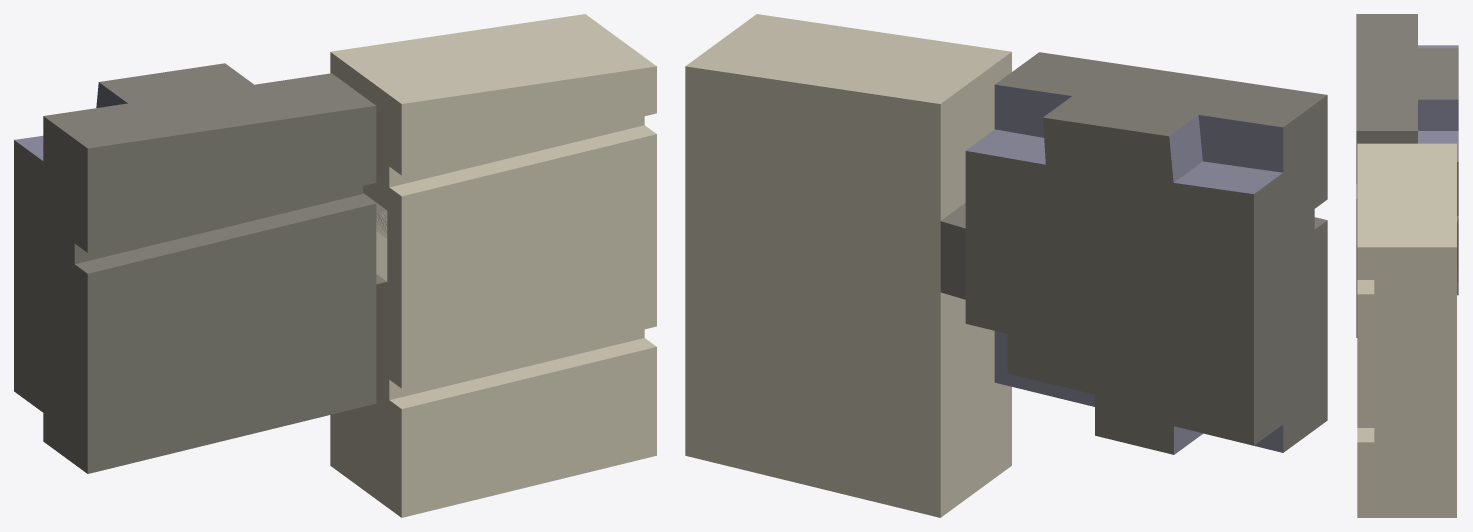
The model's file is CR1_DoorAngle3_simplified.obj.
3 renders of one model, left to right at view 1: azimuth 30°, elevation 25°; view 2: azimuth 150°, elevation 25°; view 3: azimuth 270°, elevation 25°, orthographic. The views are drawn at different scales.
Visible parts, largest first — view 1: obj16, obj9, obj1, obj11, obj12, obj19, obj5, obj17, obj43, obj13, obj48, obj4 (+4 smaller); view 2: obj45, obj40, obj12, obj19, obj17, obj43, obj48, obj22, obj28, obj24, obj37, obj46 (+2 smaller); view 3: obj20, obj19, obj17, obj30, obj18, obj29, obj4, obj8, obj24.
Part boxes in pixels (<box>): obj16: <box>87,203,376,473</box>; obj9: <box>401,134,656,388</box>; obj1: <box>401,347,656,517</box>; obj11: <box>87,106,376,252</box>; obj12: <box>14,116,87,473</box>; obj19: <box>330,14,656,103</box>; obj5: <box>401,66,656,175</box>; obj17: <box>44,63,375,148</box>; obj43: <box>330,197,401,517</box>; obj13: <box>75,194,375,273</box>; obj48: <box>330,52,401,210</box>; obj4: <box>390,125,656,196</box>; obj45: <box>685,66,940,517</box>; obj40: <box>965,117,1253,454</box>; obj12: <box>1254,95,1327,452</box>; obj19: <box>686,14,1011,103</box>; obj17: <box>995,52,1326,136</box>; obj43: <box>940,292,1011,517</box>; obj48: <box>940,52,1011,220</box>; obj22: <box>1198,115,1283,172</box>; obj28: <box>994,84,1071,137</box>; obj24: <box>1174,161,1282,193</box>; obj37: <box>994,331,1094,406</box>; obj46: <box>940,221,965,299</box>; obj20: <box>1357,247,1456,517</box>; obj19: <box>1357,143,1456,247</box>; obj17: <box>1356,14,1458,130</box>; obj30: <box>1418,99,1458,130</box>; obj18: <box>1356,131,1458,337</box>; obj29: <box>1418,131,1458,161</box>; obj4: <box>1357,280,1374,294</box>; obj8: <box>1357,428,1374,442</box>; obj24: <box>1418,45,1458,48</box>.
Bounding box in the file's own units: 486 × 364 × 109.
